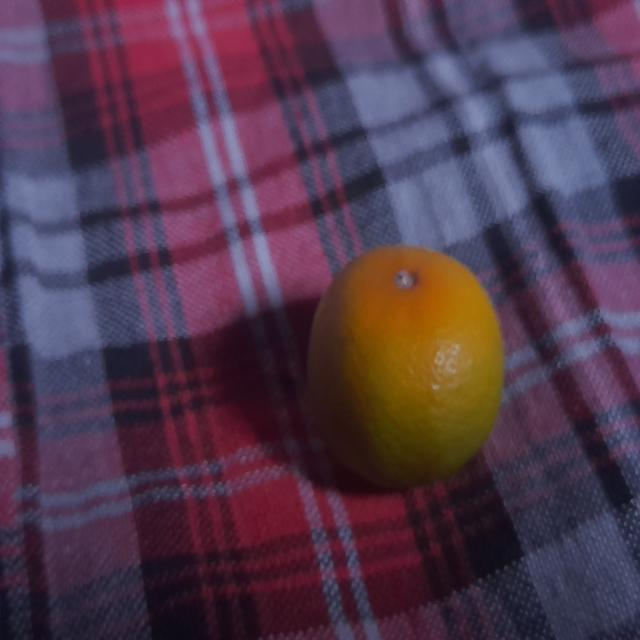greening: (303, 237, 509, 490)
